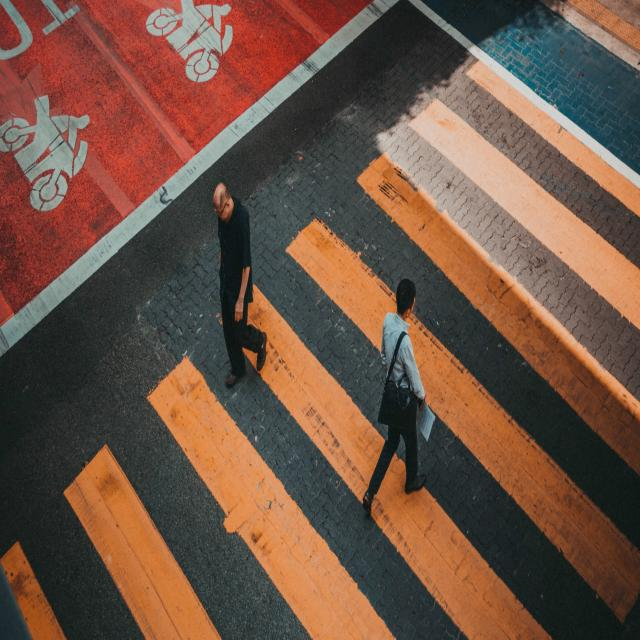adult: (363, 276, 431, 514), (214, 182, 268, 390)
